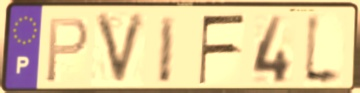4: (249, 13, 295, 86)
F: (197, 13, 248, 87)
I: (156, 14, 178, 87)
L: (301, 10, 345, 89)
P: (44, 16, 91, 86)
V: (93, 10, 150, 90)
